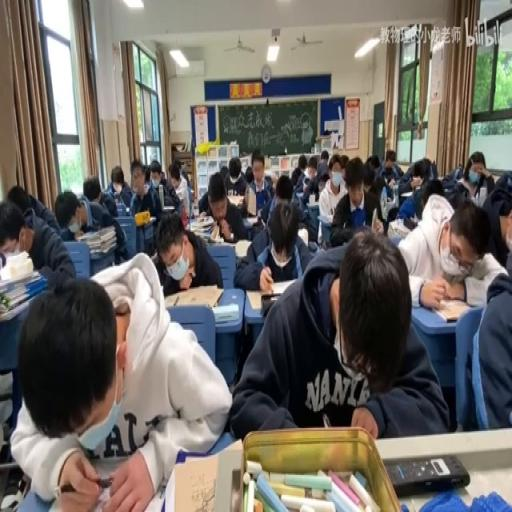calculator: (48, 458, 156, 509), (171, 453, 220, 512), (75, 224, 117, 254), (432, 298, 470, 322), (212, 302, 238, 322), (234, 238, 252, 258), (190, 215, 213, 226), (133, 215, 155, 226), (226, 194, 243, 208), (196, 232, 217, 243), (296, 225, 307, 243), (114, 200, 128, 214), (216, 235, 238, 243), (244, 215, 259, 226), (372, 205, 378, 230), (306, 199, 320, 208), (295, 189, 305, 199), (162, 205, 176, 210)
paper: (14, 250, 228, 508), (229, 230, 443, 440), (394, 194, 506, 312), (232, 196, 312, 290), (2, 194, 74, 284), (156, 209, 222, 296), (329, 158, 382, 243), (198, 170, 250, 242), (454, 151, 493, 205), (245, 152, 274, 223), (147, 158, 179, 212), (103, 163, 132, 212), (300, 156, 328, 205), (487, 172, 512, 218), (6, 184, 30, 216), (380, 147, 402, 179), (395, 170, 416, 200), (82, 173, 102, 202), (274, 173, 293, 202), (422, 176, 443, 202), (290, 152, 306, 185), (370, 174, 386, 206), (442, 163, 462, 185), (177, 160, 191, 188), (414, 162, 430, 186), (366, 152, 380, 174), (328, 152, 342, 174), (227, 158, 241, 180), (244, 165, 254, 185), (429, 159, 438, 179), (186, 183, 192, 212), (219, 164, 229, 180), (267, 174, 277, 189), (340, 154, 349, 170), (319, 150, 328, 164), (144, 166, 150, 184)
person: (386, 452, 470, 495), (259, 292, 280, 316), (403, 215, 416, 230)
